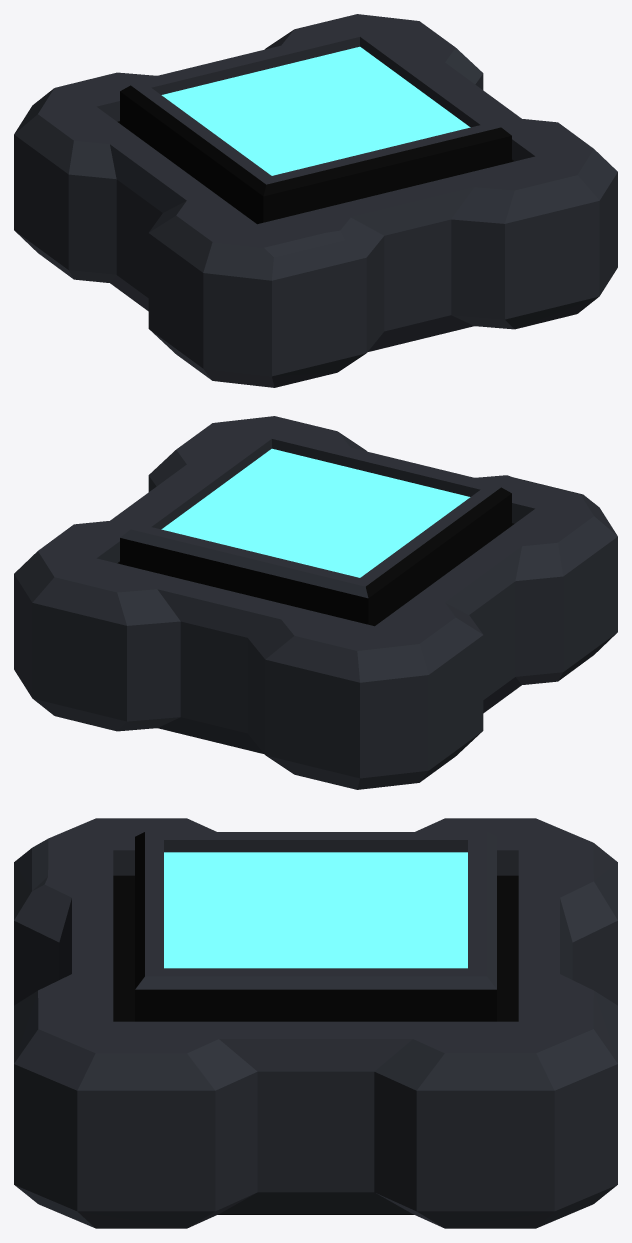
File: SM_Card.fbx
3 renders of one model, top to bottom at view 1: azimuth 30°, elevation 25°; view 2: azimuth 150°, elevation 25°; view 3: azimuth 270°, elevation 25°, orthographic. The views are drawn at different scales.
Visible parts, largest first — view 1: SM_Card; view 2: SM_Card; view 3: SM_Card.
Boxes of the visible parts, x1,y1,x2,y2 form: SM_Card: (14, 14, 617, 387); SM_Card: (14, 416, 617, 789); SM_Card: (14, 818, 617, 1228).
Size of the model in its own units: 35.01 by 15.26 by 35.01.
